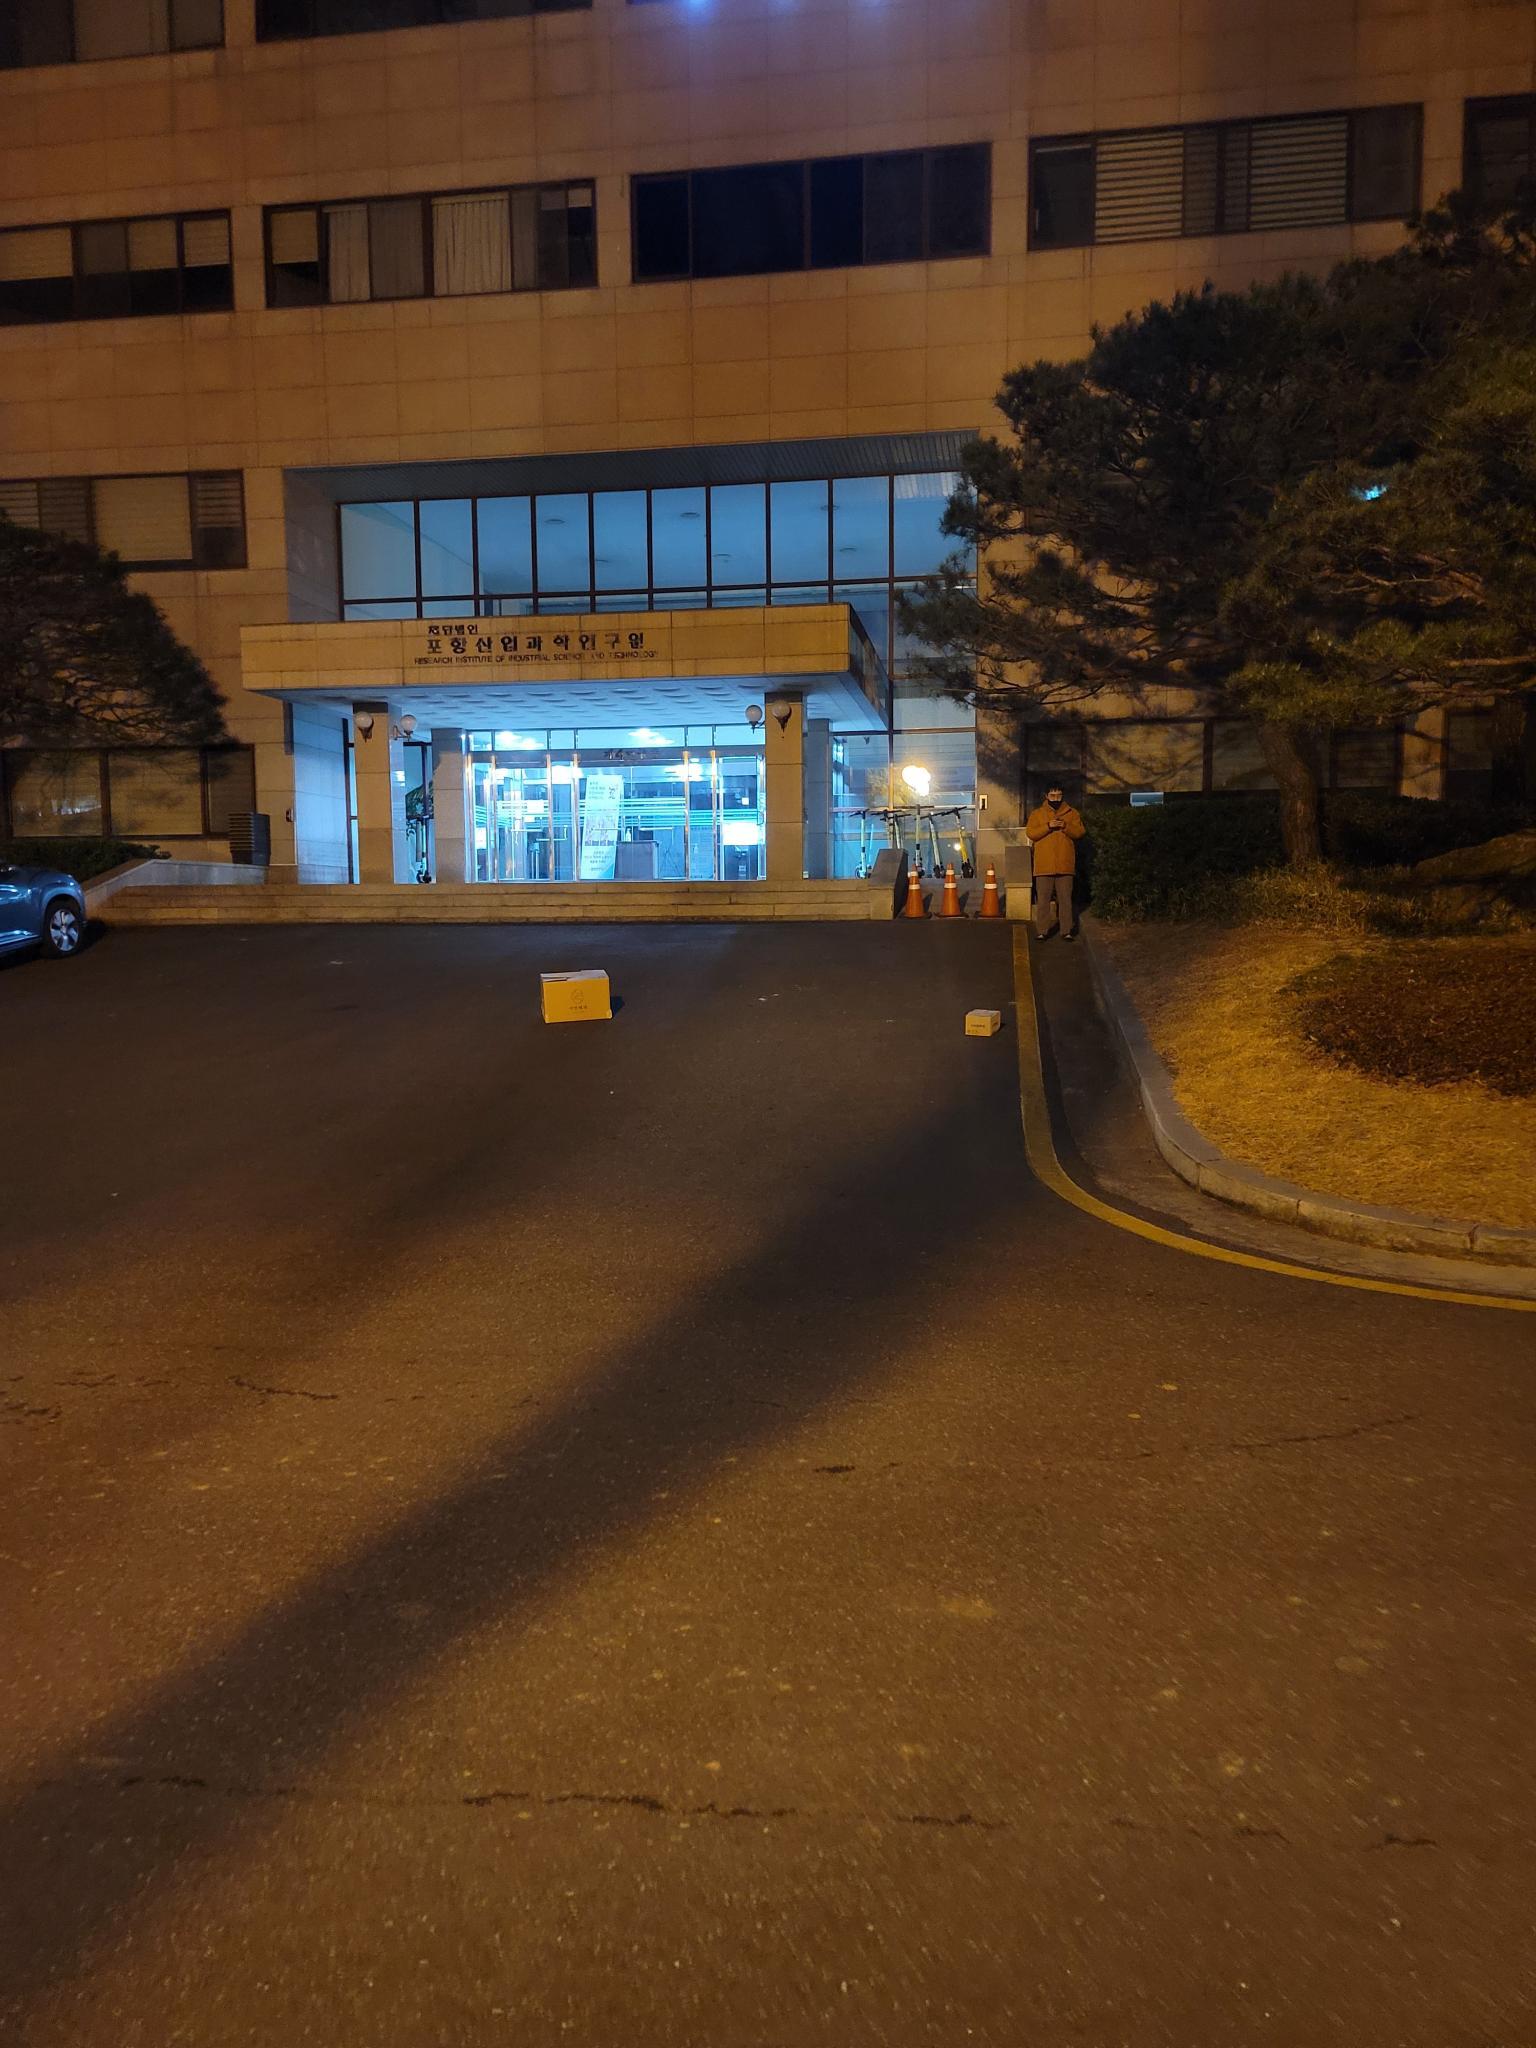Box: (529, 956, 624, 1035), (958, 1001, 1005, 1045)
